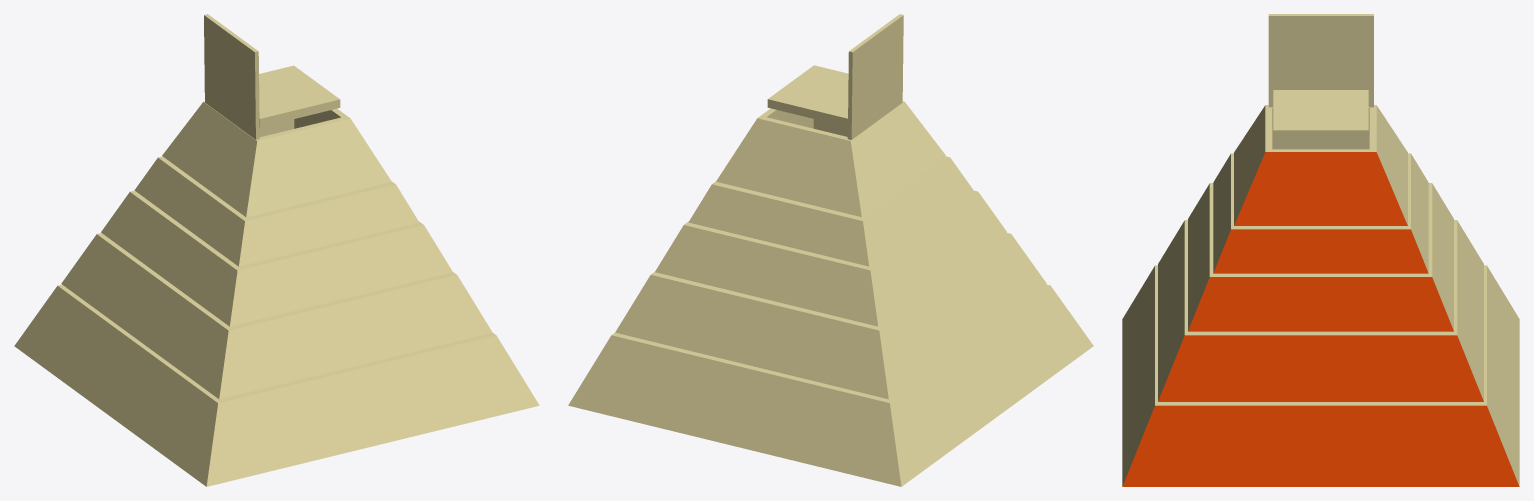
File: puzzle export.fbx
The picture shows the model from 3 angles, left to right: view 1: azimuth 30°, elevation 25°; view 2: azimuth 150°, elevation 25°; view 3: azimuth 270°, elevation 25°; orthographic projection. The views are drawn at different scales.
Parts seen in each view (by area): view 1: pCube1, pCube2, pCube3, pCube5, pCube4, pCube6, pCube7; view 2: pCube1, pCube2, pCube3, pCube5, pCube4, pCube6, pCube7; view 3: pCube1, pCube2, pCube3, pCube5, pCube4, pCube6, pCube7.
Part boxes in pixels (x1,y1,x2,y2): pCube1: (14,284,539,486); pCube2: (61,233,492,399); pCube3: (101,190,452,326); pCube5: (162,101,391,217); pCube4: (134,156,419,266); pCube6: (204,14,259,139); pCube7: (259,65,340,127); pCube1: (568,284,1093,486); pCube2: (615,233,1046,399); pCube3: (655,190,1006,326); pCube5: (716,101,945,217); pCube4: (688,156,973,266); pCube6: (847,14,903,139); pCube7: (767,65,848,126); pCube1: (1122,265,1519,486); pCube2: (1158,220,1483,401); pCube3: (1188,183,1453,331); pCube5: (1234,105,1407,225); pCube4: (1213,153,1428,273); pCube6: (1268,14,1373,107); pCube7: (1273,90,1368,138).
Bounding box in the file's own units: 1.13 × 1.15 × 1.13.
